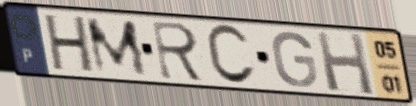C: (203, 22, 259, 88)
G: (270, 30, 321, 90)
H: (313, 29, 377, 98), (43, 13, 96, 76)
M: (82, 17, 151, 78)
R: (149, 18, 208, 84)
